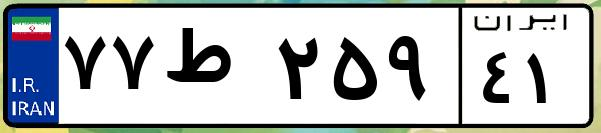1: (525, 38, 570, 115)
2: (270, 28, 330, 110)
4: (475, 38, 525, 113)
5: (330, 28, 385, 110)
7: (57, 26, 110, 100), (110, 28, 158, 98)
9: (385, 28, 445, 110)
ط: (158, 20, 270, 120)
